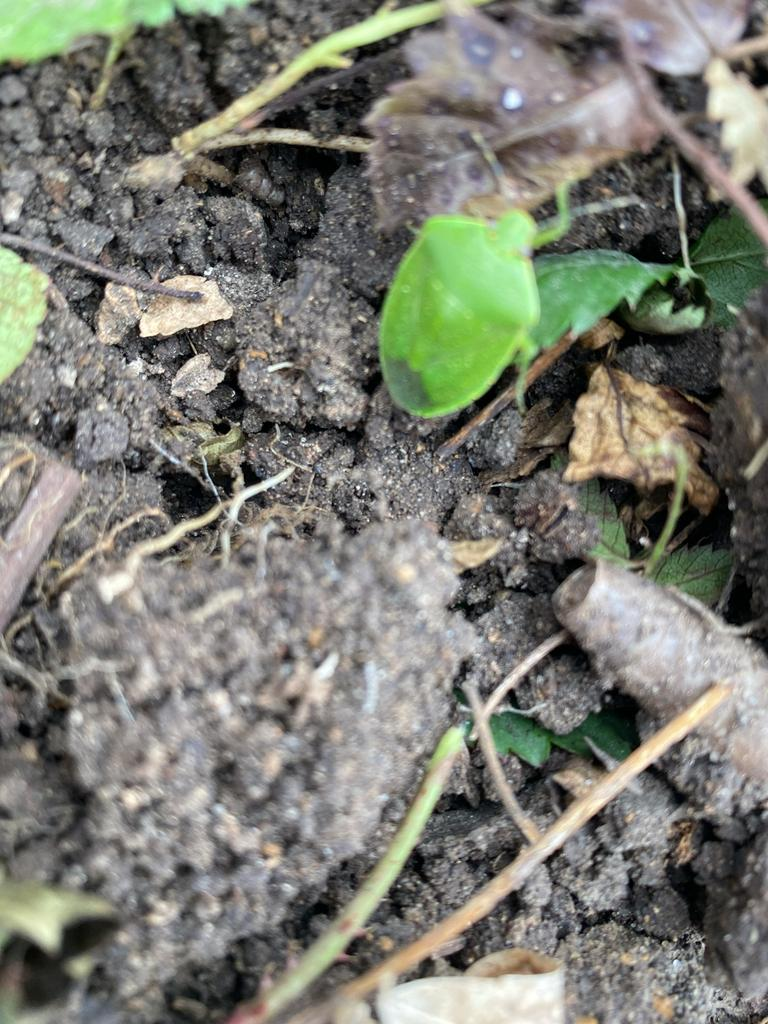stink_bugs: (331, 122, 611, 475)
